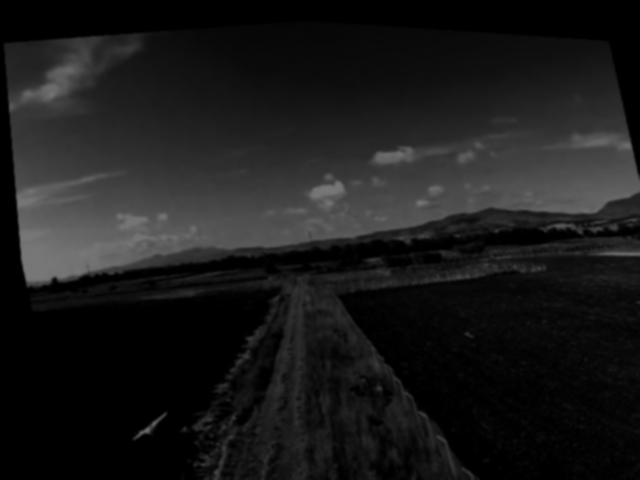hedef: (114, 400, 169, 446)
